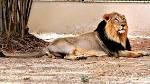lion: (38, 12, 150, 65)
